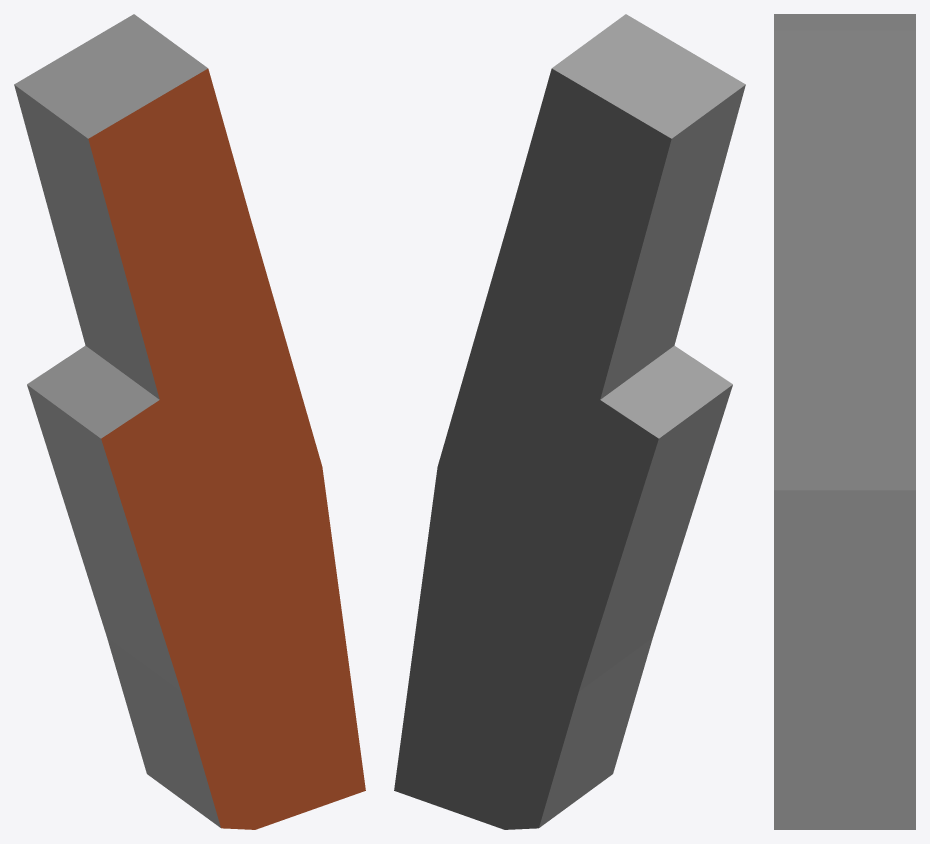
File: construction_3474_assumed_A_Casa_h6m.obj
The picture shows the model from 3 angles, left to right: view 1: azimuth 30°, elevation 25°; view 2: azimuth 150°, elevation 25°; view 3: azimuth 270°, elevation 25°; orthographic projection. The views are drawn at different scales.
Visible parts, largest first — view 1: construction_3474_assumed_A_Casa; view 2: construction_3474_assumed_A_Casa; view 3: construction_3474_assumed_A_Casa.
Part boxes in pixels (bbox=[...]): construction_3474_assumed_A_Casa: bbox=[14, 14, 365, 829]; construction_3474_assumed_A_Casa: bbox=[394, 14, 745, 829]; construction_3474_assumed_A_Casa: bbox=[774, 14, 915, 829].
Bounding box in the file's own units: 12.95 × 34.47 × 6.
